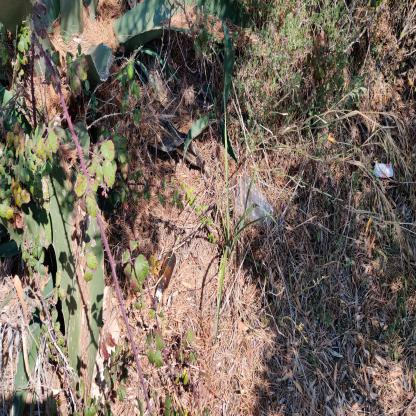cam: (154, 250, 178, 312)
